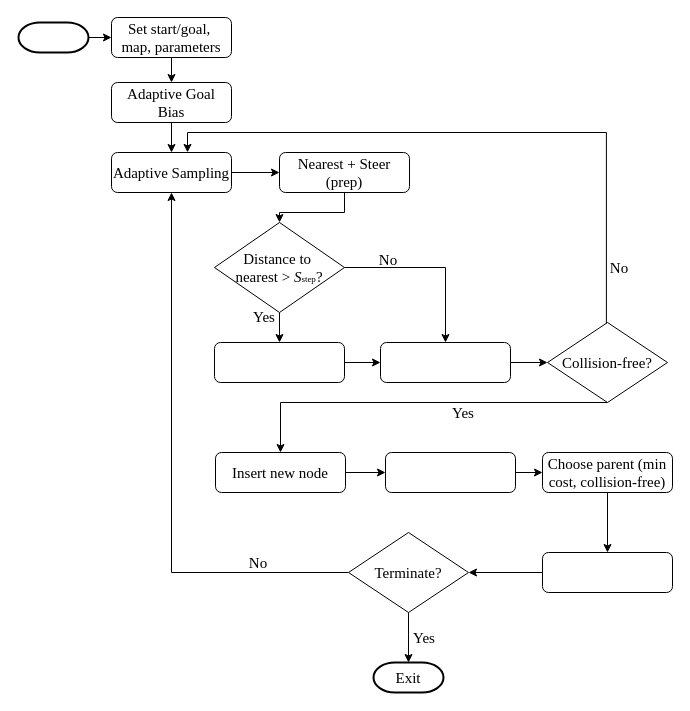
The diagram is 690 pixels wide and 711 high, and some of its shapes have lost their labels. The centre of each missing label's shape, as x and y in pixels:
Candidate segment: the point at 445,362
Dynamic Rewiring (Adaptive radius): the point at 607,572
Find neighbors (radius): the point at 450,472
Start: the point at 53,37
Steer toward sample by step S step: the point at 279,362
